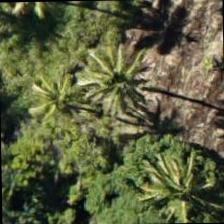Kelapa_Sawit: (60, 39, 152, 131), (7, 50, 98, 142), (129, 143, 221, 223)
